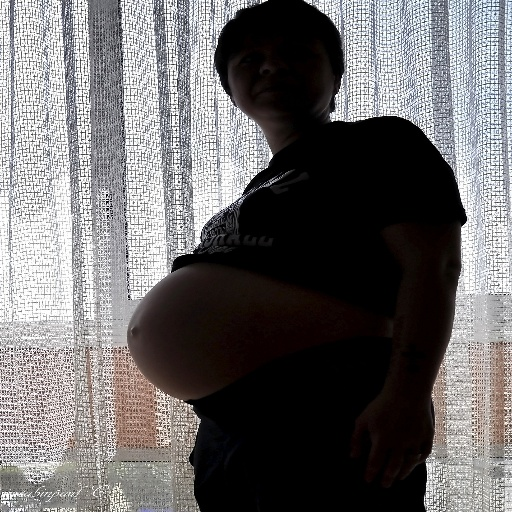hand: (349, 367, 436, 482)
